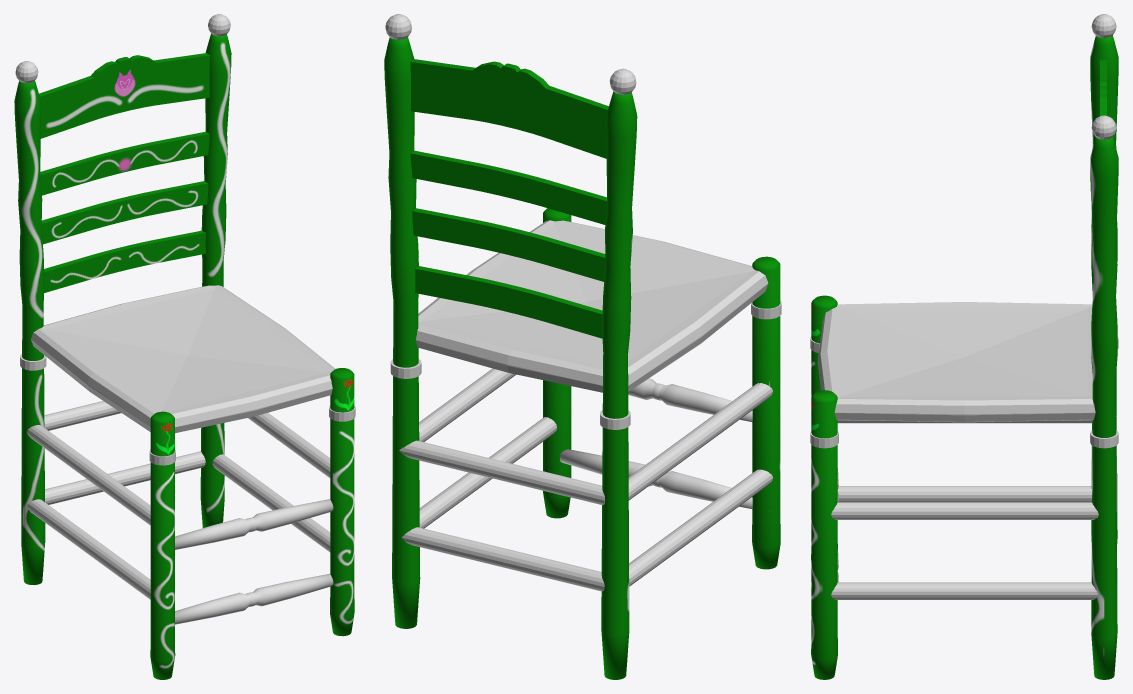
The model's file is sillaverde.fbx.
The picture shows the model from 3 angles, left to right: view 1: azimuth 30°, elevation 25°; view 2: azimuth 150°, elevation 25°; view 3: azimuth 270°, elevation 25°; orthographic projection. The views are drawn at different scales.
Visible parts, largest first — view 1: Cubo, Espaldar 1, Pata trasera D, Pata delantera D, Cilindro, Cilindro.002, Cilindro.001, Cilindro.003, Anillo delantero D, Esfera; view 2: Pata trasera D, Cubo, Espaldar 1, Pata delantera D, Cilindro.003, Cilindro.002, Cilindro.001, Cilindro, Anillo delantero D, Esfera; view 3: Cubo, Pata trasera D, Cilindro.001, Pata delantera D, Cilindro.002, Esfera, Anillo delantero D.
Boxes of the visible parts, x1=… form: Cubo: x1=31, y1=285, x2=335, y2=433; Espaldar 1: x1=39, y1=53, x2=210, y2=292; Pata trasera D: x1=14, y1=33, x2=231, y2=584; Pata delantera D: x1=150, y1=368, x2=354, y2=679; Cilindro: x1=175, y1=499, x2=333, y2=624; Cilindro.002: x1=27, y1=425, x2=150, y2=599; Cilindro.001: x1=212, y1=413, x2=330, y2=552; Cilindro.003: x1=44, y1=401, x2=205, y2=504; Anillo delantero D: x1=20, y1=354, x2=355, y2=465; Esfera: x1=15, y1=14, x2=230, y2=83; Pata trasera D: x1=384, y1=37, x2=637, y2=679; Cubo: x1=415, y1=220, x2=768, y2=392; Espaldar 1: x1=410, y1=59, x2=608, y2=338; Pata delantera D: x1=543, y1=208, x2=780, y2=569; Cilindro.003: x1=399, y1=440, x2=604, y2=591; Cilindro.002: x1=628, y1=383, x2=772, y2=586; Cilindro.001: x1=419, y1=368, x2=556, y2=528; Cilindro: x1=560, y1=378, x2=752, y2=508; Anillo delantero D: x1=390, y1=300, x2=781, y2=429; Esfera: x1=385, y1=14, x2=636, y2=94; Cubo: x1=817, y1=302, x2=1095, y2=422; Pata trasera D: x1=1090, y1=35, x2=1118, y2=679; Cilindro.001: x1=831, y1=502, x2=1098, y2=599; Pata delantera D: x1=811, y1=295, x2=837, y2=679; Cilindro.002: x1=837, y1=420, x2=1092, y2=502; Esfera: x1=1091, y1=14, x2=1116, y2=139; Anillo delantero D: x1=810, y1=336, x2=1118, y2=448.
Bounding box in the file's own units: 38.11 × 44.12 × 88.73.
